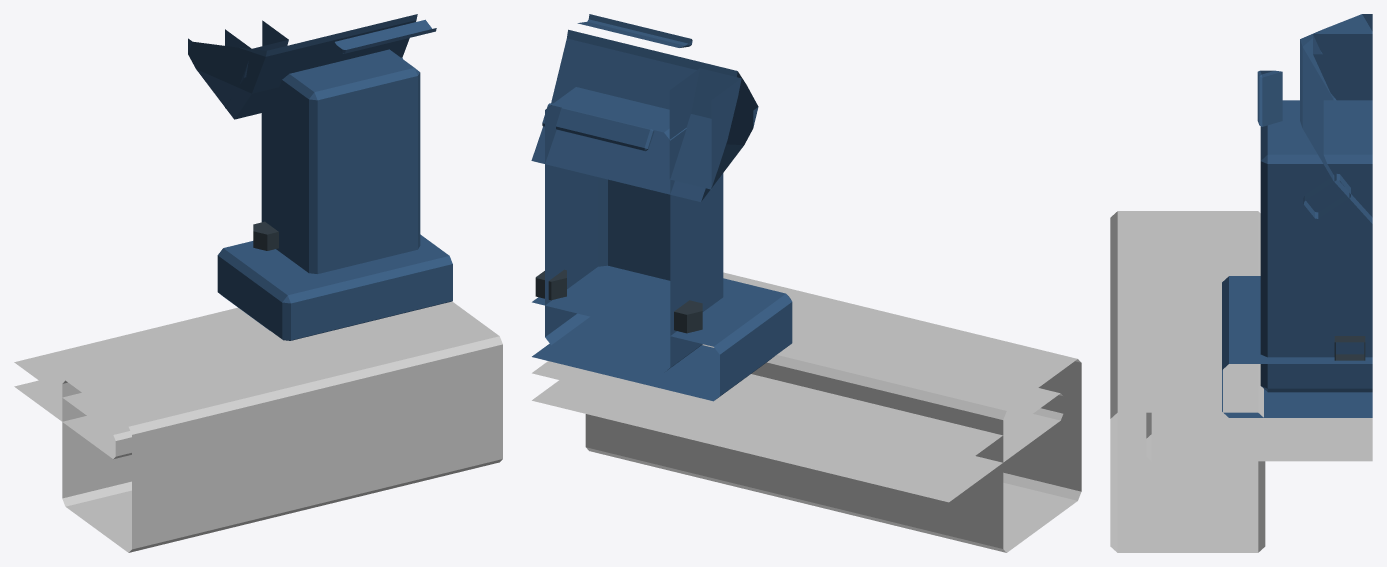
The model's file is cell_18.obj.
3 renders of one model, left to right at view 1: azimuth 30°, elevation 25°; view 2: azimuth 150°, elevation 25°; view 3: azimuth 270°, elevation 25°, orthographic. The views are drawn at different scales.
Bounding box in the file's own units: 1 × 1 × 0.55.
